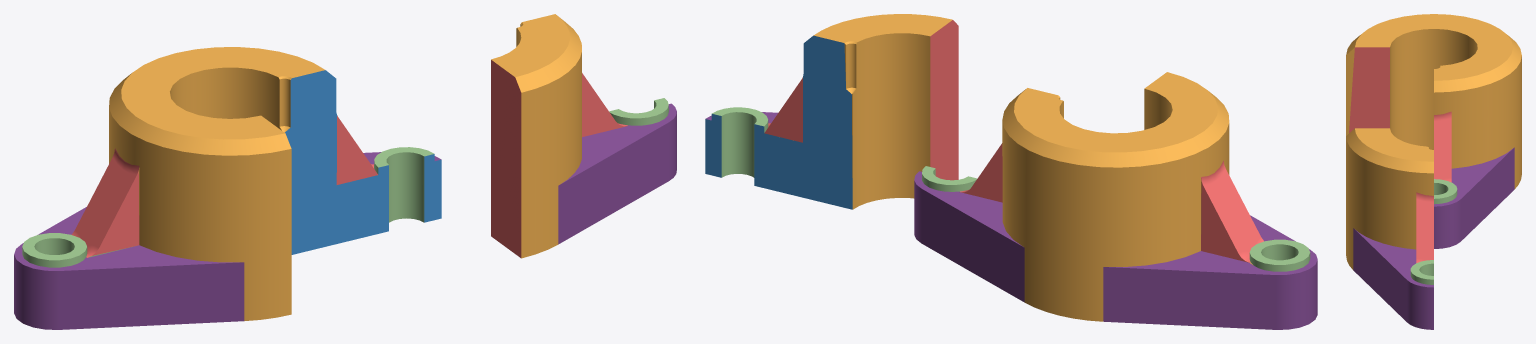
3 views of the same model, side by side, from view 1: azimuth 30°, elevation 25°; view 2: azimuth 150°, elevation 25°; view 3: azimuth 270°, elevation 25° (orthographic). The views are drawn at different scales.
Visible parts, largest first — view 1: 6_23; view 2: 6_23; view 3: 6_23.
Boxes of the visible parts, x1,y1,x2,y2 form: 6_23: (14, 14, 676, 329); 6_23: (705, 14, 1317, 329); 6_23: (1346, 14, 1521, 329).
Bounding box in the file's own units: 1410 × 365 × 457.
